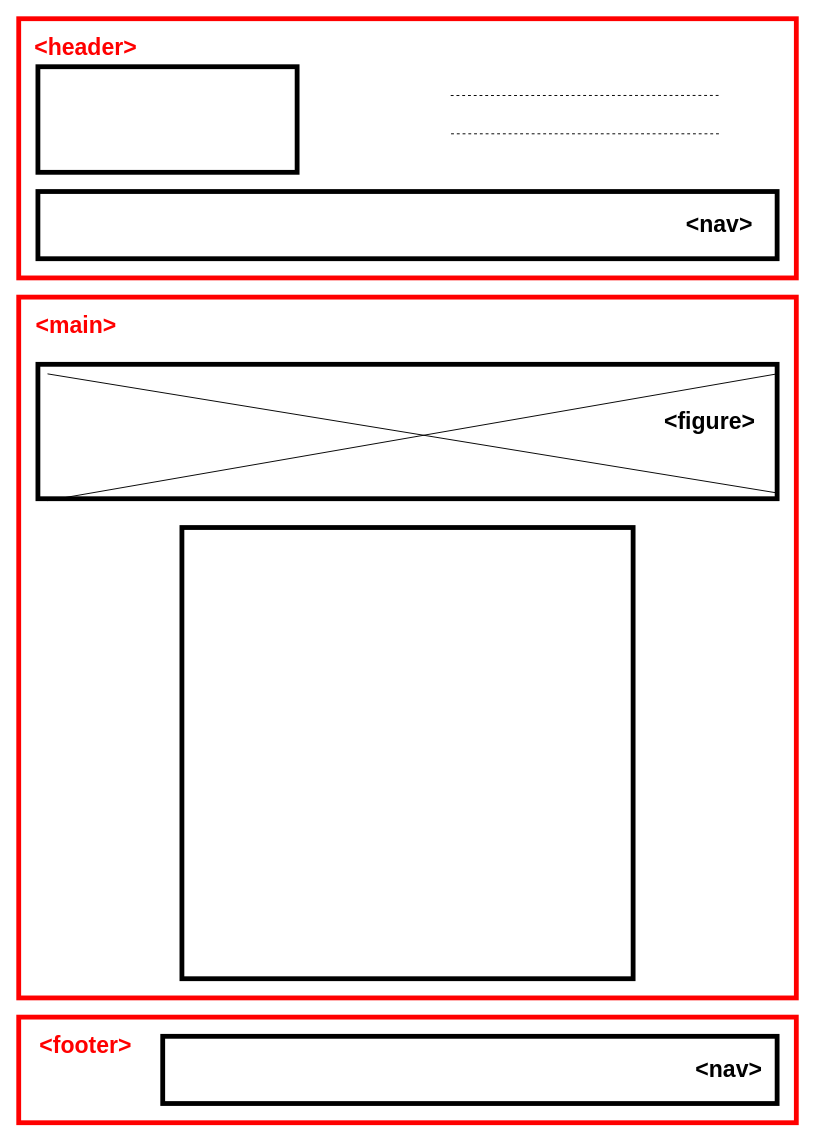
This 815x1141 diagram has some shape labels left out. Each missing label, with the centre of its shape:
<table>: pixel 407 753
LOGO: pixel 167 119
